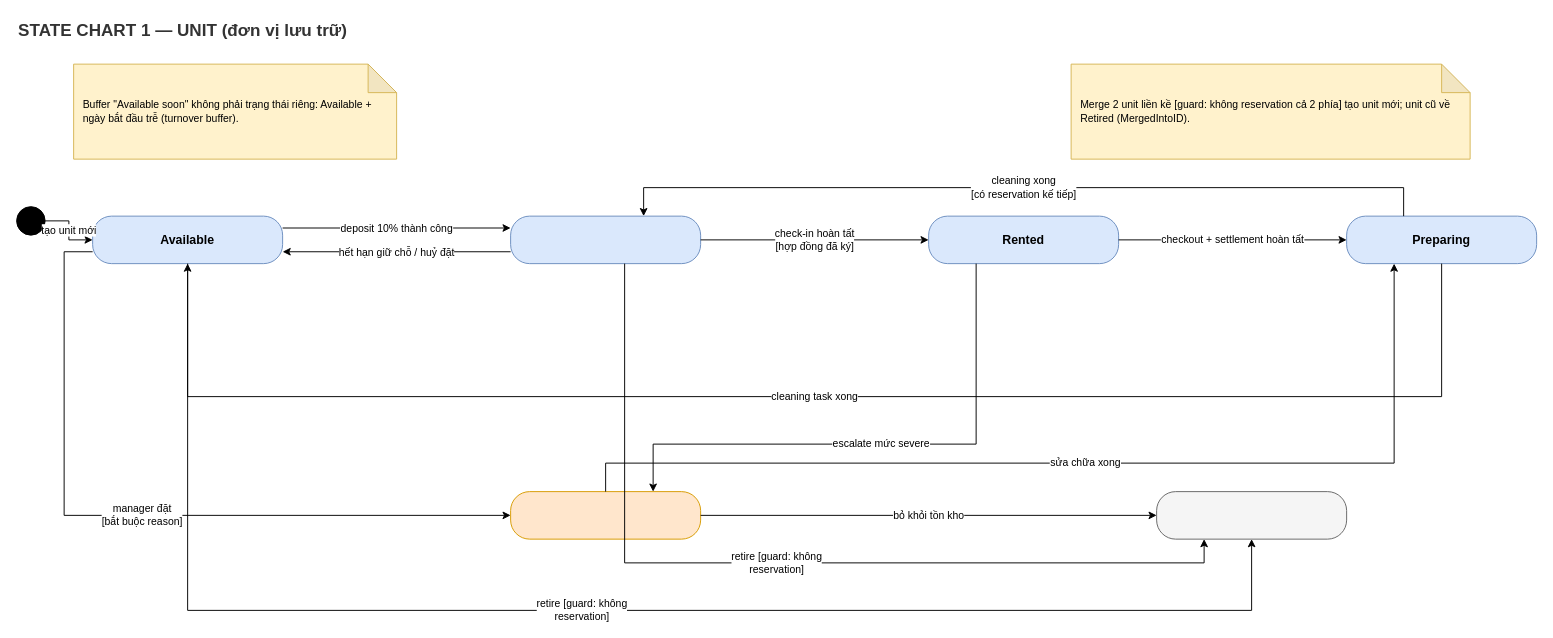
The diagram is 1553 pixels wide and 638 high, and some of its shapes have lost their labels. The shapes that lost their labels are listed below. From the top down, each one's centre as x and y in pixels, then its label:
At (x=605, y=239): "Reserved".
At (x=605, y=515): "Maintenance".
At (x=1251, y=515): "Retired".
